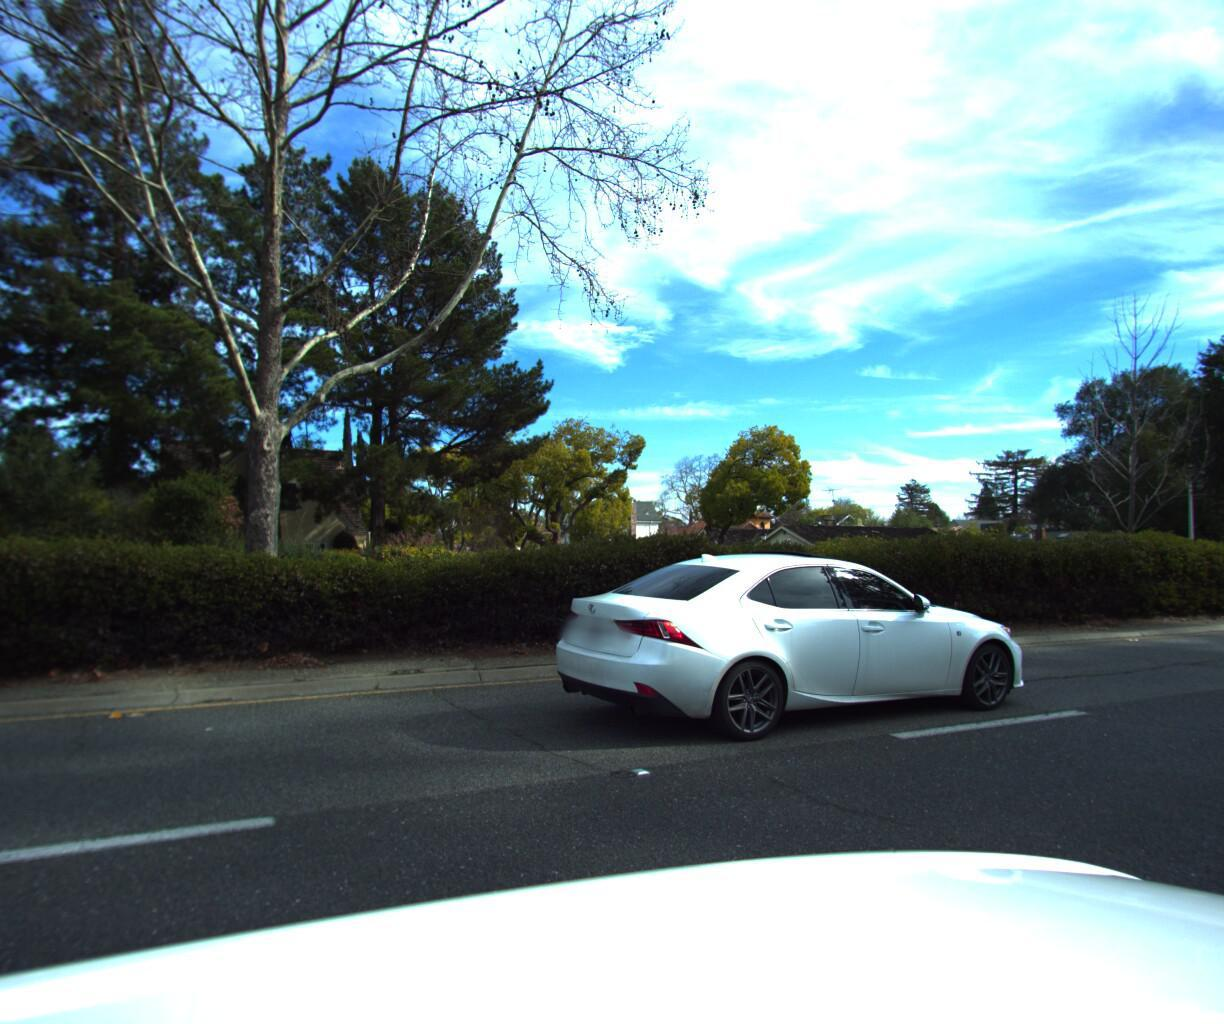car: (532, 546, 1033, 769)
